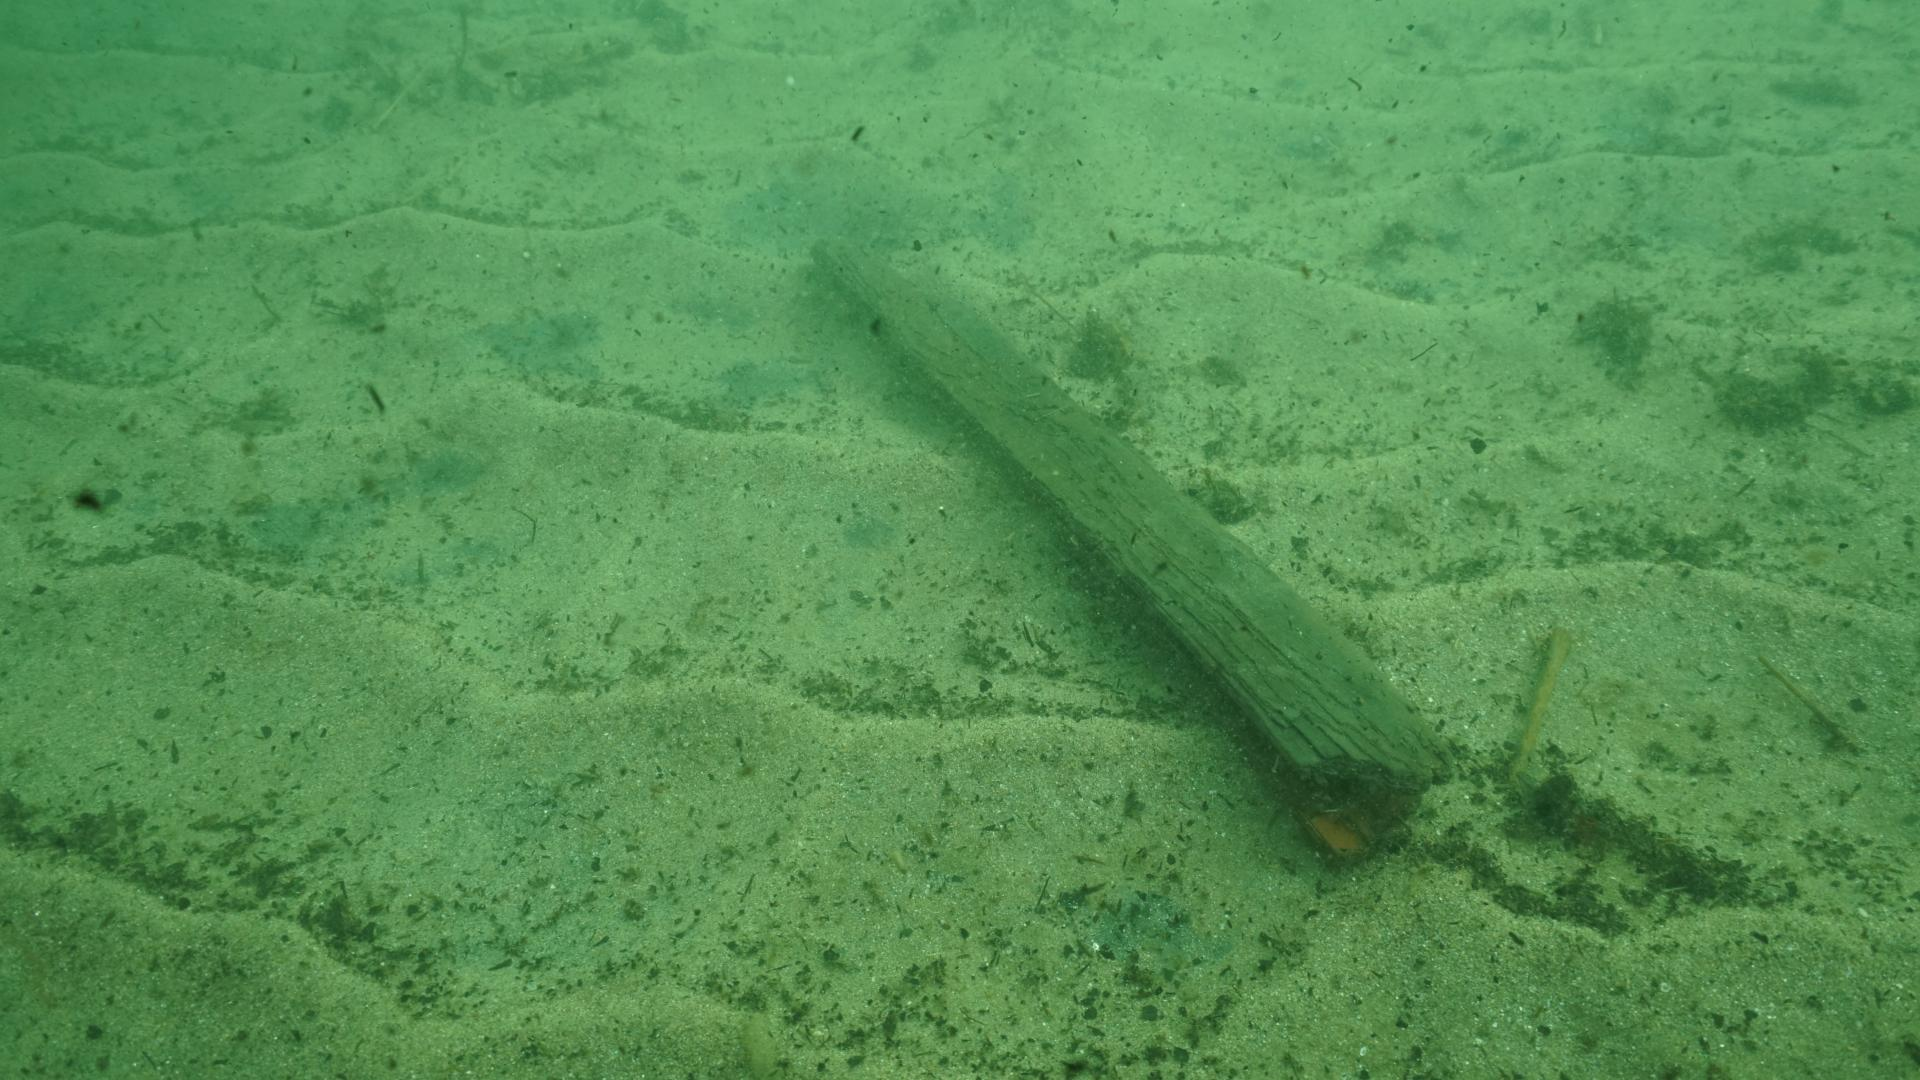wood: (800, 218, 1474, 872)
